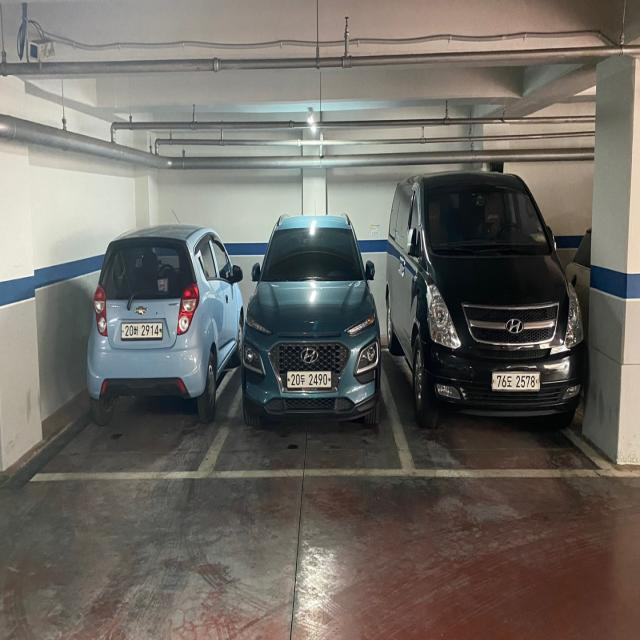occupied: (396, 172, 586, 430), (242, 216, 382, 423), (91, 224, 238, 412)
